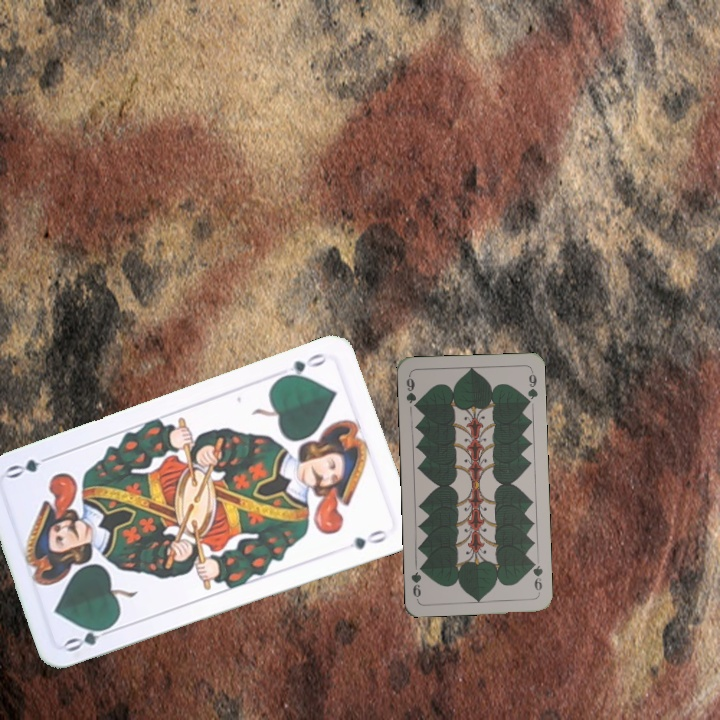G9: (402, 372, 421, 412), (527, 556, 545, 596)
GO: (61, 619, 119, 655), (272, 349, 329, 382)
